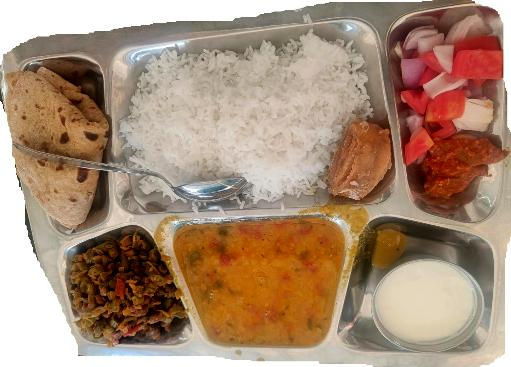Curd: (376, 258, 489, 358)
Dal: (178, 221, 342, 346)
Pickle: (433, 142, 507, 200)
Rice: (125, 39, 391, 199)
Roti: (3, 70, 100, 222)
Salad: (400, 19, 501, 132)
Sweet: (329, 108, 391, 198)
Vegetable: (63, 232, 175, 350)
